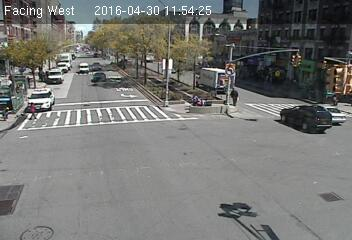neg: (49, 68, 62, 85), (325, 90, 336, 105), (95, 72, 105, 85)
pos: (225, 85, 244, 110), (24, 100, 39, 121)
